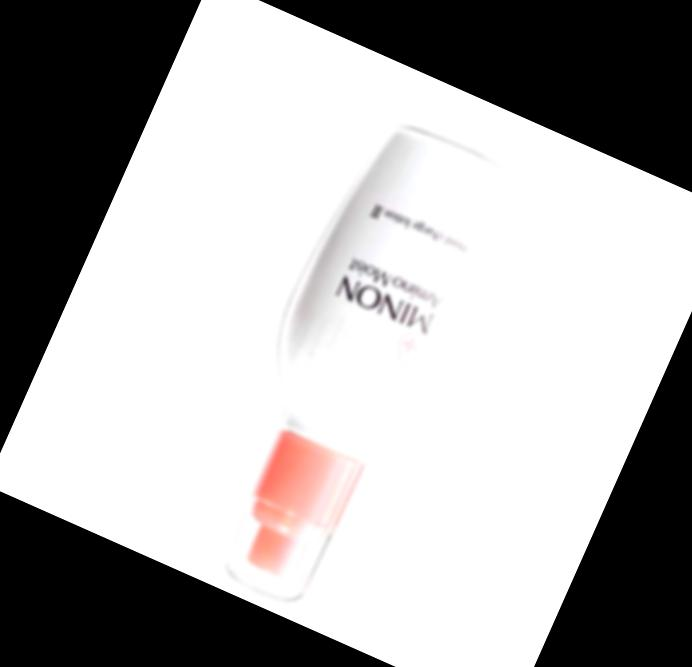cosmetic: (172, 104, 540, 632)
